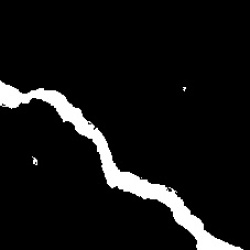crack: (2, 82, 243, 249), (33, 157, 39, 166), (182, 86, 186, 91)
